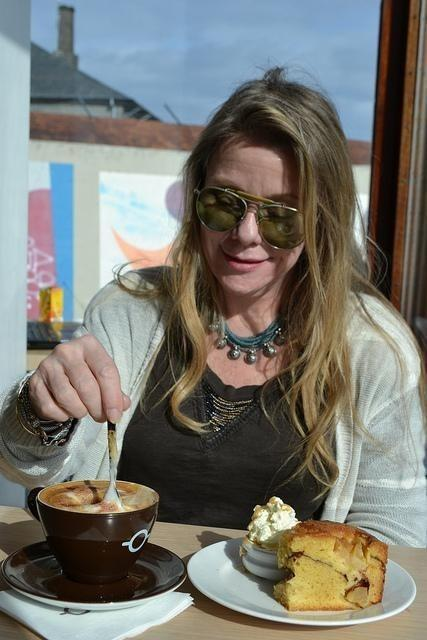cup-handle: (24, 478, 160, 583)
